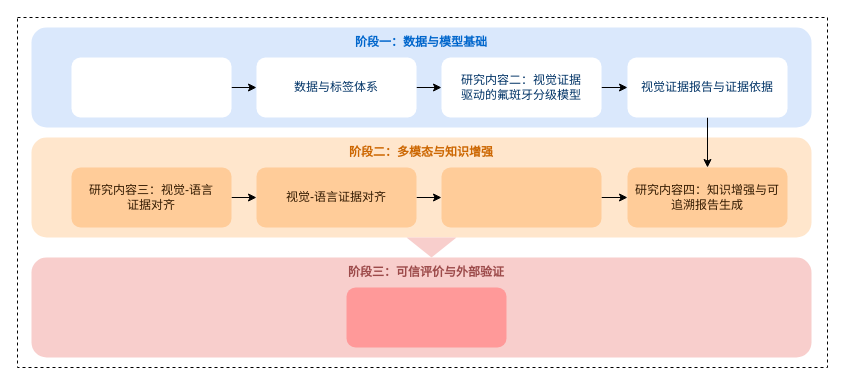
Some shapes in this 845 by 385 pixel diagram are drawn without their labels. Here are the shapes that lost their labels. From the top down, the centre of each, then its label:
pixel 151 87: 研究内容一：氟斑牙分级数据与标签体系构建
pixel 521 197: 视域特征与分级结果
pixel 426 317: 研究内容五：可信评价与外部验证
